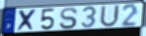2: (121, 3, 141, 29)
3: (81, 5, 98, 30)
5: (40, 8, 57, 31)
S: (58, 7, 79, 30)
U: (99, 4, 121, 29)
X: (16, 9, 38, 33)
